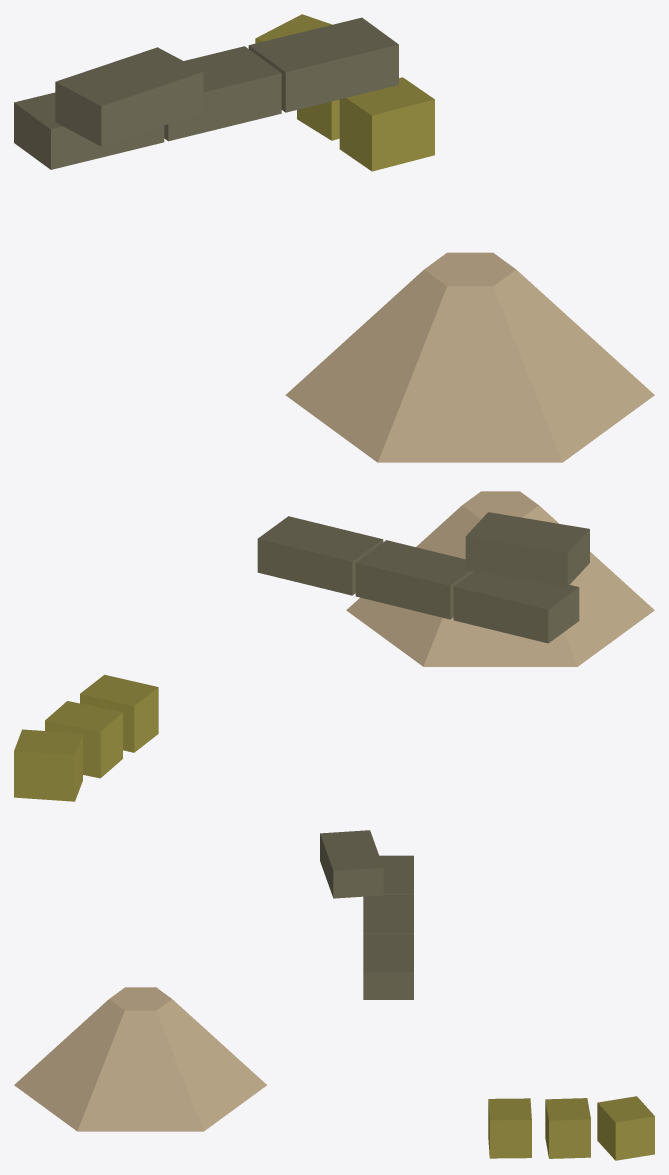
The model's file is SM_ObraSacos_v3_8m_LOD1.fbx.
3 renders of one model, top to bottom at view 1: azimuth 30°, elevation 25°; view 2: azimuth 150°, elevation 25°; view 3: azimuth 270°, elevation 25°, orthographic. The views are drawn at different scales.
Visible parts, largest first — view 1: SM_obra_curso_v6_LOD1; view 2: SM_obra_curso_v6_LOD1; view 3: SM_obra_curso_v6_LOD1.
Boxes of the visible parts, x1,y1,x2,y2 form: SM_obra_curso_v6_LOD1: (14,14,654,462); SM_obra_curso_v6_LOD1: (14,491,654,801); SM_obra_curso_v6_LOD1: (14,830,654,1160).
Bounding box in the file's own units: 3.62 × 1.8 × 6.07.
